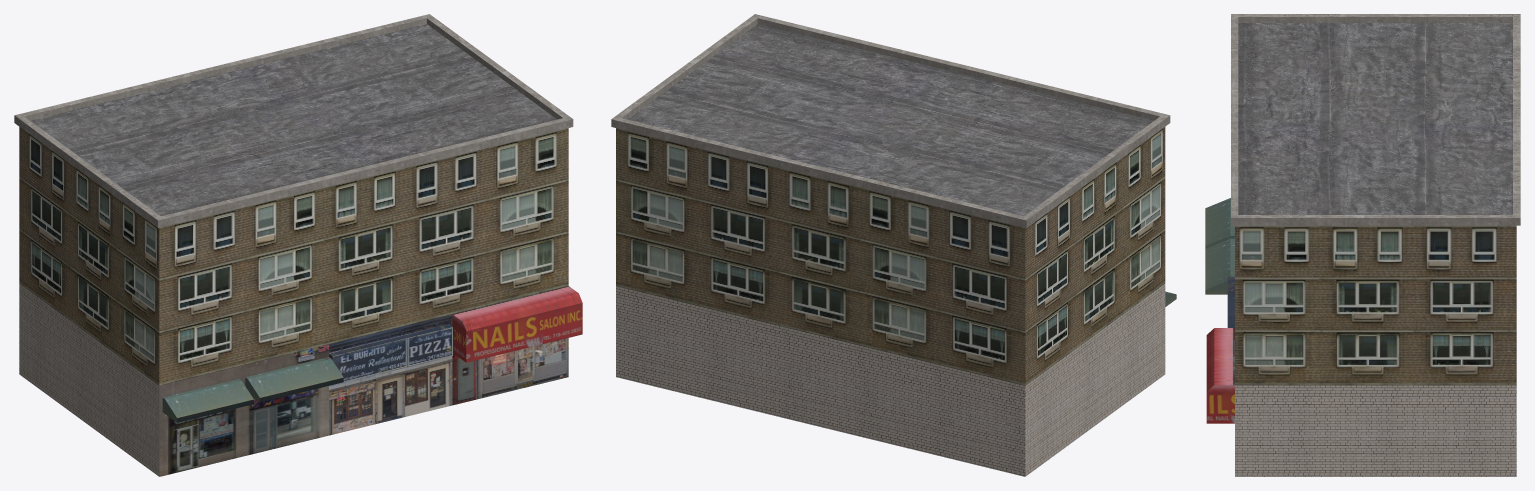
Rendered from ny_street_08_b.glb.
3 views of the same model, side by side, from view 1: azimuth 30°, elevation 25°; view 2: azimuth 150°, elevation 25°; view 3: azimuth 270°, elevation 25° (orthographic).
Parts seen in each view (by area): view 1: Building_07_building_0, Building_07_Roof_tiles_0, Building_07_Shops_23_0, Building_07_brick_modern_05_0, Building_07_ConcreteBare_0, Building_07_Shops_25_0, Building_07_Shops_24_0; view 2: Building_07_building_0, Building_07_Roof_tiles_0, Building_07_brick_modern_05_0, Building_07_ConcreteBare_0; view 3: Building_07_Roof_tiles_0, Building_07_building_0, Building_07_brick_modern_05_0, Building_07_ConcreteBare_0, Building_07_Shops_25_0, Building_07_Shops_23_0, Building_07_Shops_24_0.
Boxes of the visible parts, x1=… form: Building_07_building_0: x1=19, y1=127, x2=568, y2=385; Building_07_Roof_tiles_0: x1=30, y1=24, x2=556, y2=215; Building_07_Shops_23_0: x1=159, y1=344, x2=343, y2=476; Building_07_brick_modern_05_0: x1=19, y1=283, x2=159, y2=476; Building_07_ConcreteBare_0: x1=14, y1=14, x2=573, y2=227; Building_07_Shops_25_0: x1=452, y1=286, x2=582, y2=405; Building_07_Shops_24_0: x1=329, y1=314, x2=452, y2=435; Building_07_building_0: x1=616, y1=127, x2=1165, y2=385; Building_07_Roof_tiles_0: x1=627, y1=24, x2=1153, y2=216; Building_07_brick_modern_05_0: x1=616, y1=283, x2=1165, y2=476; Building_07_ConcreteBare_0: x1=611, y1=14, x2=1170, y2=227; Building_07_Roof_tiles_0: x1=1238, y1=23, x2=1512, y2=214; Building_07_building_0: x1=1235, y1=225, x2=1516, y2=385; Building_07_brick_modern_05_0: x1=1235, y1=385, x2=1516, y2=476; Building_07_ConcreteBare_0: x1=1231, y1=14, x2=1520, y2=225; Building_07_Shops_25_0: x1=1206, y1=328, x2=1234, y2=423; Building_07_Shops_23_0: x1=1205, y1=198, x2=1234, y2=294; Building_07_Shops_24_0: x1=1227, y1=276, x2=1234, y2=327.
Bounding box in the file's own units: 1.6 × 0.9519 × 1.04.
7 materials, 7 textured.
